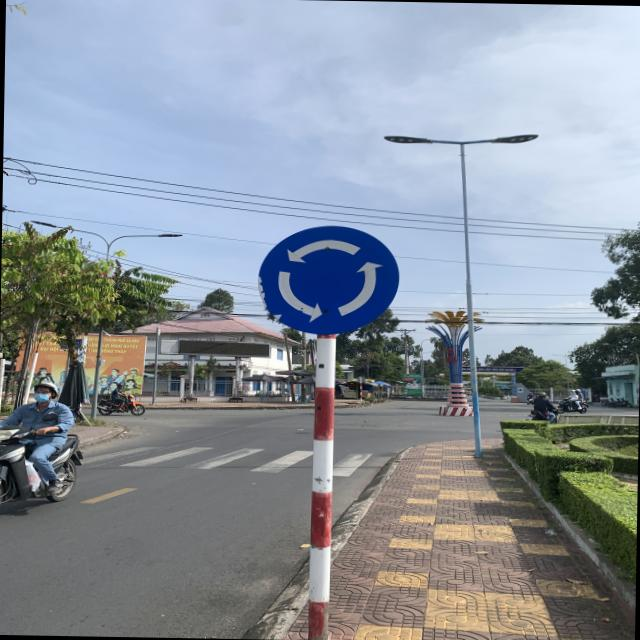Xe_Bus: (256, 223, 399, 334)
